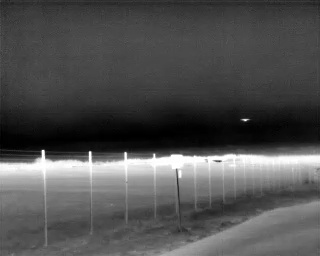AIRPLANE: (239, 116, 251, 124)
